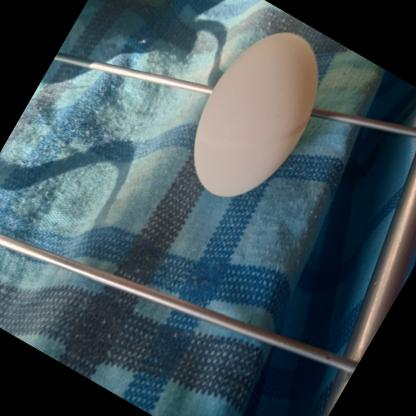Tabel Tennis: (163, 6, 349, 223)
